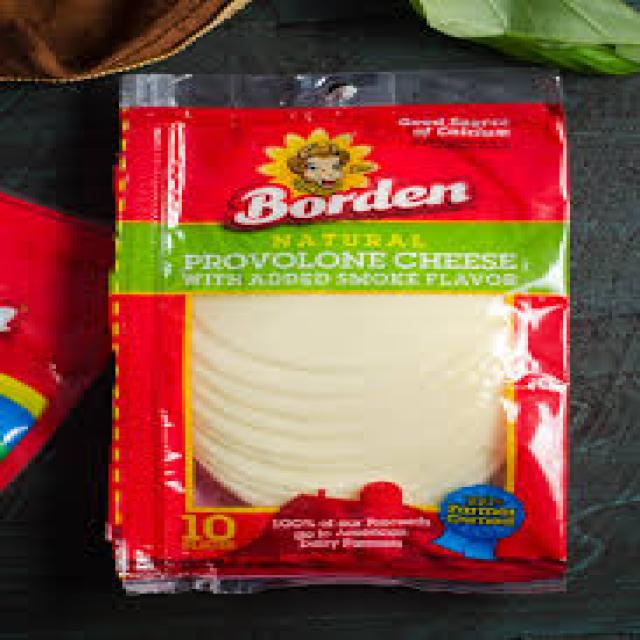cheese: (188, 293, 501, 480)
